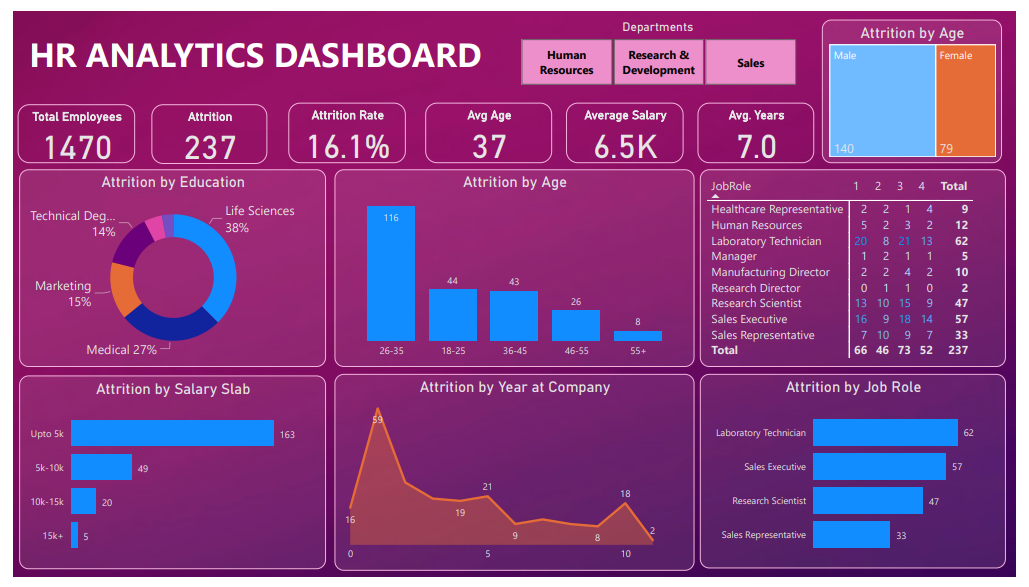

Layout of this report page (visuals, bound fields, positions):
{"tool":"powerbi","page":{"name":"Page 1","canvas":[1280,720],"ordinal":0},"visuals":[{"type":"card","title":"Total Employees","fields":{"Values":["CountNonNull(HR_Analytics.EmpID)"]},"box":[5.3,117.7,149.7,74.9],"z":0},{"type":"card","title":"Attrition","fields":{"Values":["Sum(HR_Analytics.AttritionCount)"]},"box":[176.5,117.7,148,76.7],"z":1000},{"type":"card","title":"Attrition Rate","fields":{"Values":["HR_Analytics.AttritionRate"]},"box":[351.3,116.1,149.7,76.7],"z":2000},{"type":"card","title":"Avg Age","fields":{"Values":["Avg(HR_Analytics.Age)"]},"box":[525.9,115.9,162.2,76.7],"z":3000},{"type":"card","title":"Average Salary","fields":{"Values":["Avg(HR_Analytics.MonthlyIncome)"]},"box":[706,115.9,149.7,76.7],"z":4000},{"type":"card","title":"Avg. Years","fields":{"Values":["Avg(HR_Analytics.YearsAtCompany)"]},"box":[873.5,115.9,149.7,76.7],"z":5000},{"type":"donutChart","title":"Attrition by Education","fields":{"Category":["HR_Analytics.EducationField"],"Y":["Sum(HR_Analytics.AttritionCount)"]},"box":[7.1,201.4,392.2,251.4],"z":6000},{"type":"columnChart","title":"Attrition by Age","fields":{"Category":["HR_Analytics.AgeGroup"],"Y":["Sum(HR_Analytics.AttritionCount)"]},"box":[410,201.4,459.9,251.4],"z":7000},{"type":"pivotTable","fields":{"Rows":["HR_Analytics.JobRole"],"Columns":["HR_Analytics.JobSatisfaction"],"Values":["Sum(HR_Analytics.AttritionCount)"]},"box":[877.1,201.4,390.4,251.4],"z":8000},{"type":"barChart","title":"Attrition by Salary Slab","fields":{"Category":["HR_Analytics.SalarySlab"],"Y":["Sum(HR_Analytics.AttritionCount)"]},"box":[7.1,463.5,392.2,247.8],"z":9000},{"type":"barChart","title":"Attrition by Job Role","fields":{"Category":["HR_Analytics.JobRole"],"Y":["Sum(HR_Analytics.AttritionCount)"]},"box":[877.1,461.7,390.4,247.8],"z":10000},{"type":"areaChart","title":"Attrition by Year at Company","fields":{"Category":["HR_Analytics.YearsAtCompany"],"Y":["Sum(HR_Analytics.AttritionCount)"]},"box":[410,461.7,459.9,251.4],"z":11000},{"type":"treemap","title":"Attrition by Age","fields":{"Group":["HR_Analytics.Gender"],"Values":["Sum(HR_Analytics.AttritionCount)"]},"box":[1033.3,10,230,183.3],"z":12000},{"type":"slicer","title":"Departments","fields":{"Values":["HR_Analytics.Department"]},"box":[621.7,5,403.3,95],"z":13000},{"type":"textbox","box":[5.3,19.6,607.9,90.9],"z":14000}]}

Visuals, with their boxes in screenshot pixels (x1, y1, x2, y2), scaled from the page's 1280x720 canvas onto the 1029x587 screenshot:
"Total Employees" card: bbox=[4, 96, 125, 157]
"Attrition" card: bbox=[142, 96, 261, 158]
"Attrition Rate" card: bbox=[282, 95, 403, 157]
"Avg Age" card: bbox=[423, 94, 553, 157]
"Average Salary" card: bbox=[568, 94, 688, 157]
"Avg. Years" card: bbox=[702, 94, 823, 157]
"Attrition by Education" donutChart: bbox=[6, 164, 321, 369]
"Attrition by Age" columnChart: bbox=[330, 164, 699, 369]
pivotTable - HR_Analytics.JobRole x HR_Analytics.JobSatisfaction: bbox=[705, 164, 1019, 369]
"Attrition by Salary Slab" barChart: bbox=[6, 378, 321, 580]
"Attrition by Job Role" barChart: bbox=[705, 376, 1019, 578]
"Attrition by Year at Company" areaChart: bbox=[330, 376, 699, 581]
"Attrition by Age" treemap: bbox=[831, 8, 1016, 158]
"Departments" slicer: bbox=[500, 4, 824, 82]
textbox: bbox=[4, 16, 493, 90]
